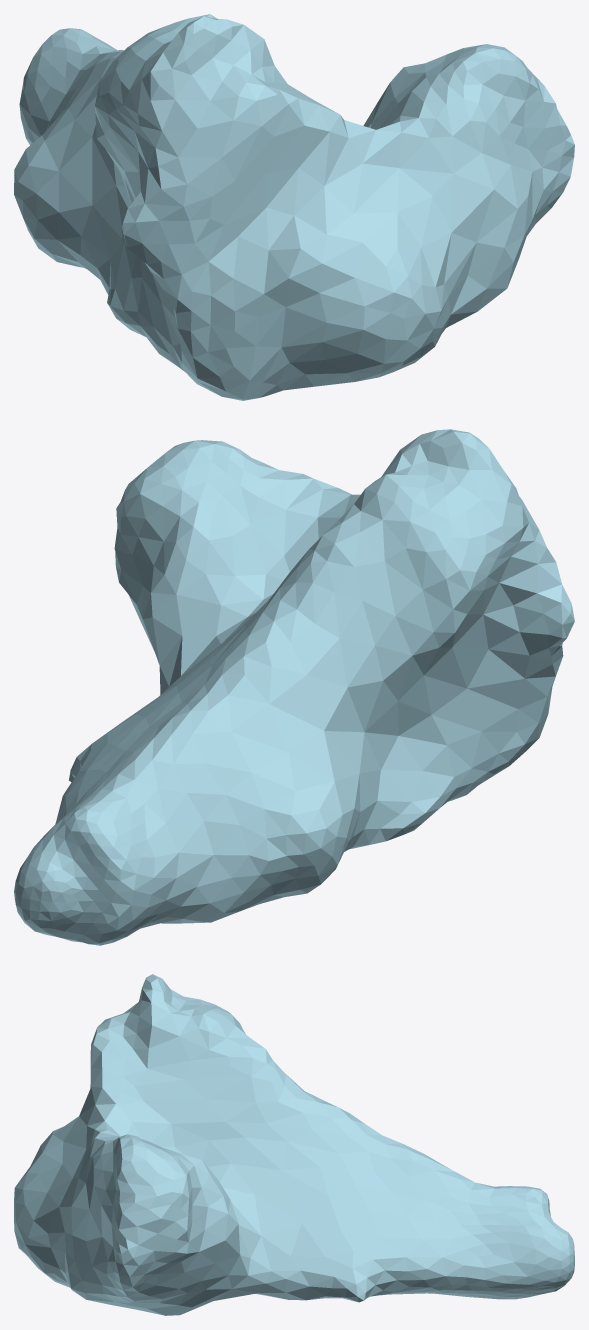
The model's file is livertumor02.obj.
The picture shows the model from 3 angles, top to bottom: view 1: azimuth 30°, elevation 25°; view 2: azimuth 150°, elevation 25°; view 3: azimuth 270°, elevation 25°; orthographic projection. The views are drawn at different scales.
Visible parts, largest first — view 1: grp1; view 2: grp1; view 3: grp1.
Part boxes in pixels (left/top/right/bottom): grp1: left=14, top=14, right=574, bottom=400; grp1: left=14, top=429, right=574, bottom=945; grp1: left=14, top=974, right=574, bottom=1315.
Size of the model in its own units: 24.54 by 19.02 by 35.18.
